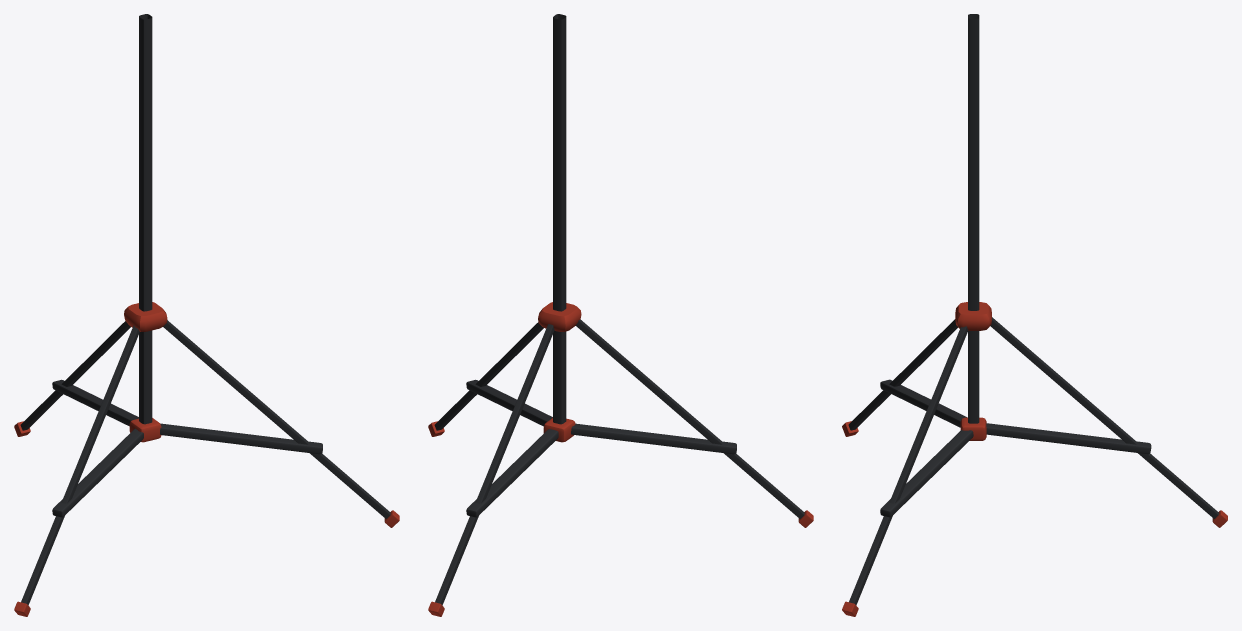
The model's file is tripod.glb.
3 views of the same model, side by side, from view 1: azimuth 30°, elevation 25°; view 2: azimuth 150°, elevation 25°; view 3: azimuth 270°, elevation 25° (orthographic).
Parts seen in each view (by area): view 1: Tripod; view 2: Tripod; view 3: Tripod.
Part boxes in pixels (x1=…): Tripod: x1=14, y1=14, x2=399, y2=616; Tripod: x1=428, y1=14, x2=813, y2=616; Tripod: x1=842, y1=14, x2=1227, y2=616.
Size of the model in its own units: 1.94 by 2.45 by 1.68.
1 material, 1 textured.
